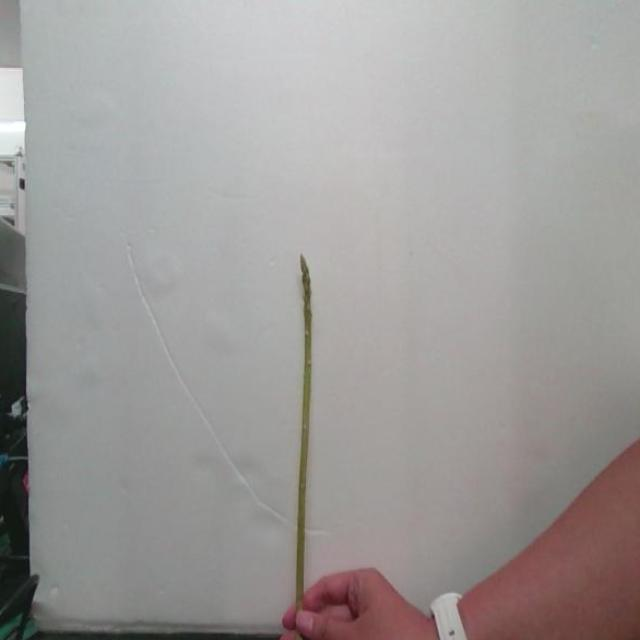aspargus: (296, 262, 315, 599)
